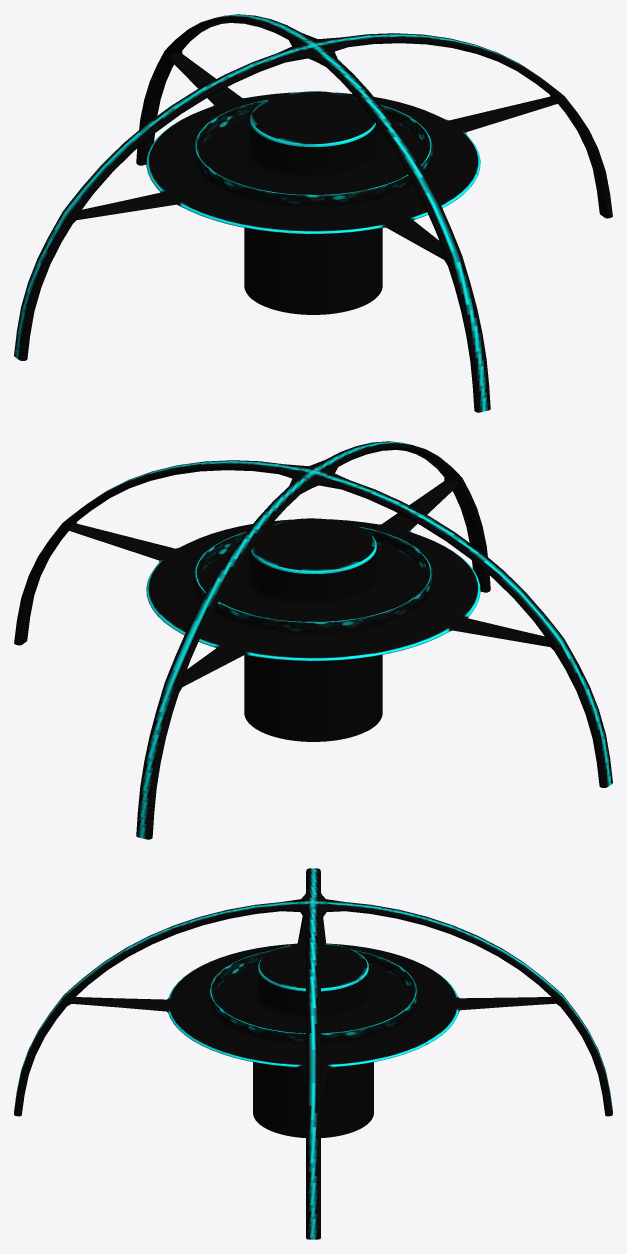
The model's file is Castle_a.obj.
The picture shows the model from 3 angles, top to bottom: view 1: azimuth 30°, elevation 25°; view 2: azimuth 150°, elevation 25°; view 3: azimuth 270°, elevation 25°; orthographic projection. The views are drawn at different scales.
Visible parts, largest first — view 1: Cylinder; view 2: Cylinder; view 3: Cylinder.
Part boxes in pixels (<box>): Cylinder: <box>14,14,612,412</box>; Cylinder: <box>14,441,612,839</box>; Cylinder: <box>14,868,612,1239</box>.
Size of the model in its own units: 59.85 by 23.27 by 59.85.
Materials: 3 (3 with a texture image).
